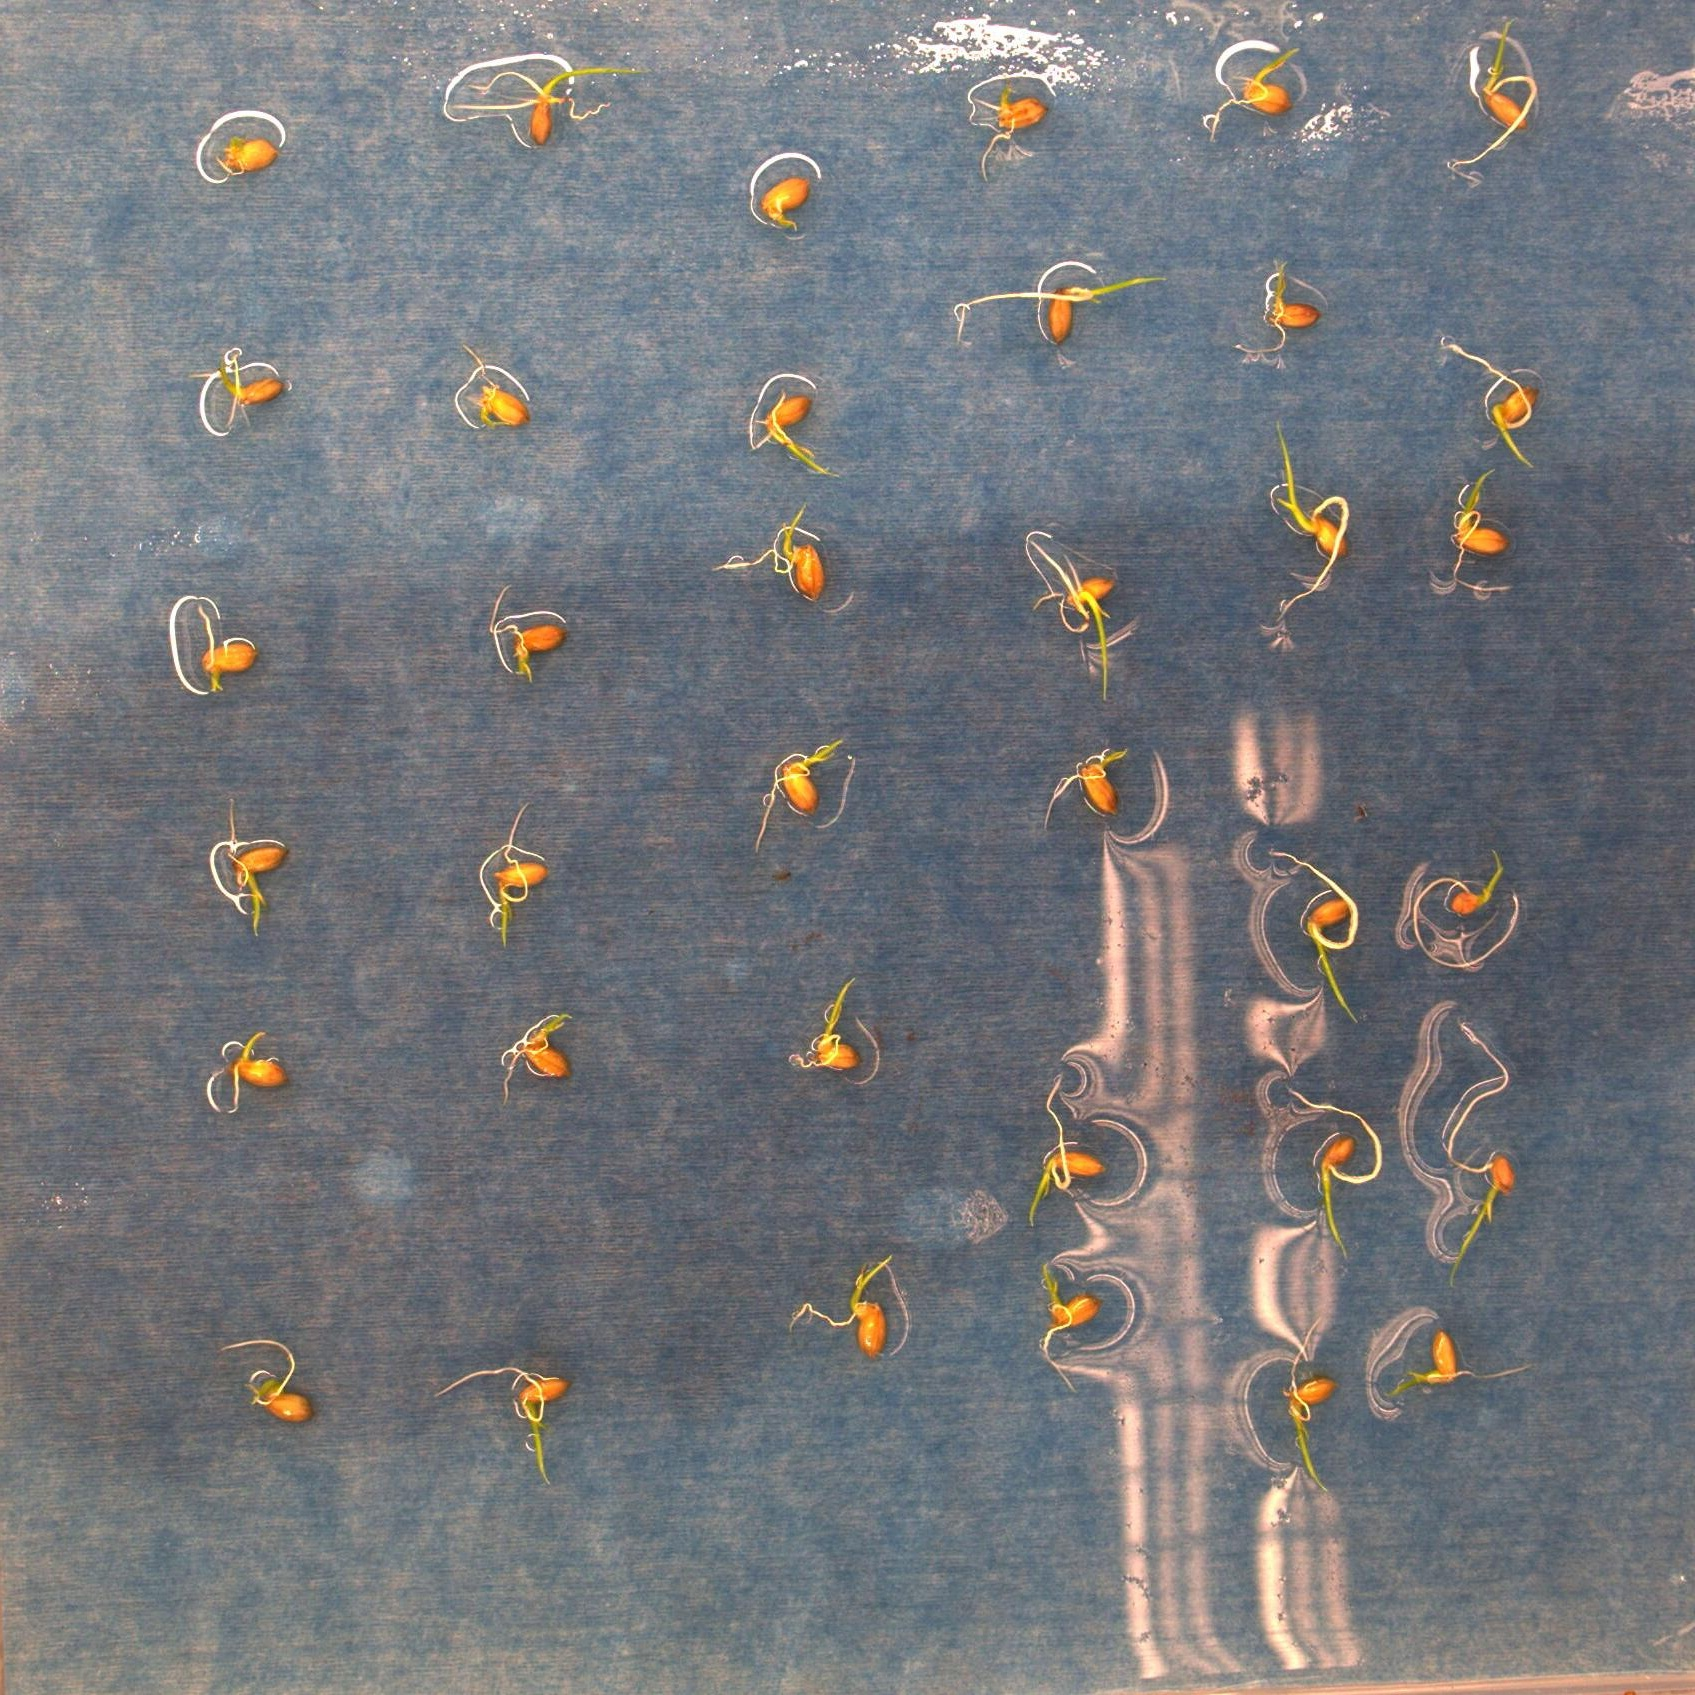not sprout: (757, 177, 809, 231), (219, 133, 275, 174)
sprout: (1447, 1018, 1516, 1290), (1271, 413, 1352, 627), (435, 1366, 574, 1484), (1287, 1091, 1383, 1259), (1268, 851, 1360, 1024), (961, 273, 1167, 349), (1447, 16, 1538, 186), (452, 68, 650, 144), (1028, 536, 1118, 700), (1440, 338, 1548, 467), (1411, 847, 1520, 972), (1367, 1327, 1538, 1403), (1028, 1073, 1107, 1226), (787, 1253, 899, 1360), (711, 500, 826, 602), (753, 737, 844, 852), (1288, 1313, 1340, 1498), (1211, 45, 1304, 144), (1448, 466, 1516, 593), (228, 798, 290, 938), (1042, 1260, 1105, 1392), (1232, 258, 1319, 354), (494, 801, 551, 945), (220, 1336, 314, 1423), (1040, 748, 1138, 830), (975, 73, 1048, 182), (487, 584, 570, 680), (189, 352, 287, 428), (757, 390, 840, 480), (500, 1012, 573, 1107), (789, 978, 860, 1074), (464, 343, 532, 432), (197, 601, 261, 694), (227, 1028, 286, 1114)
